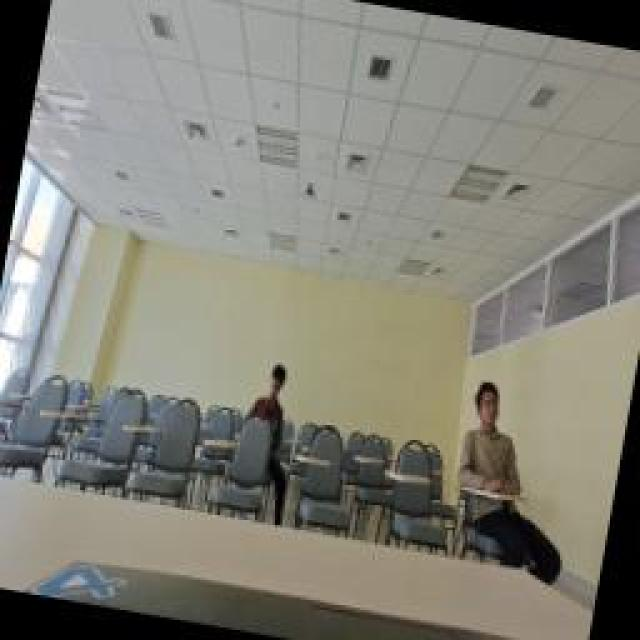study: (455, 378, 540, 498), (245, 360, 293, 432)
